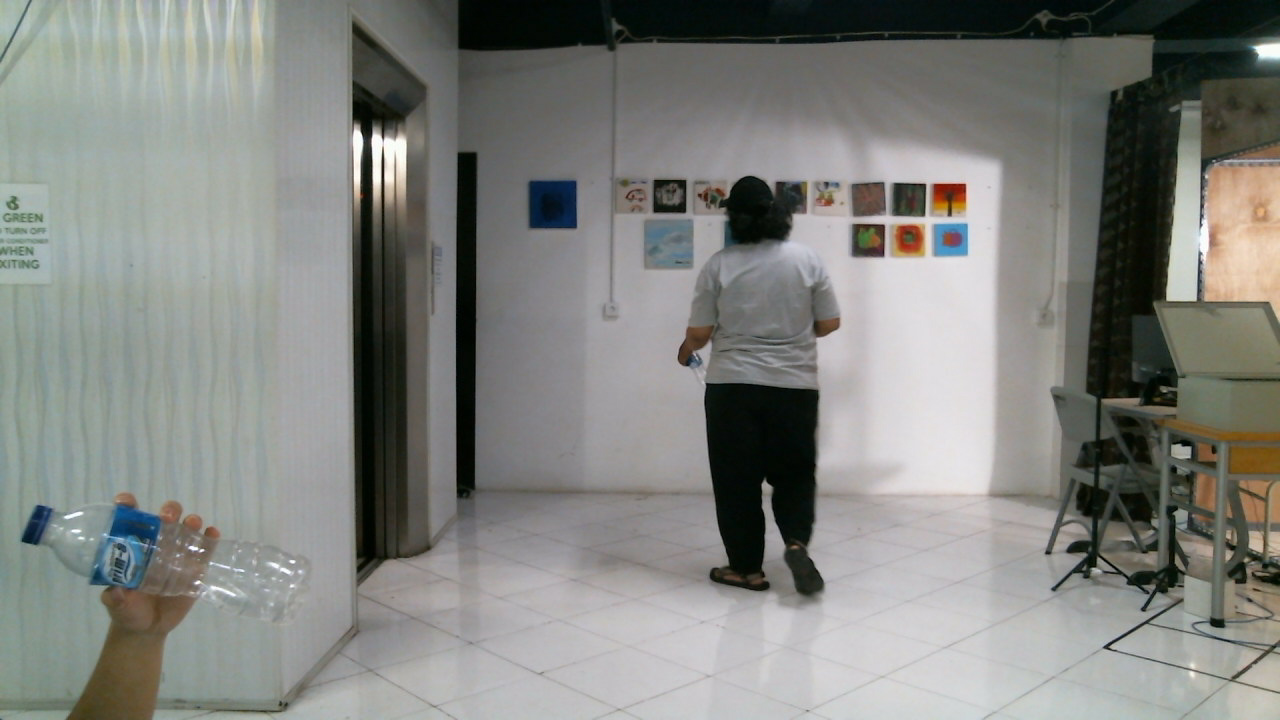Bottle: (16, 501, 313, 623)
